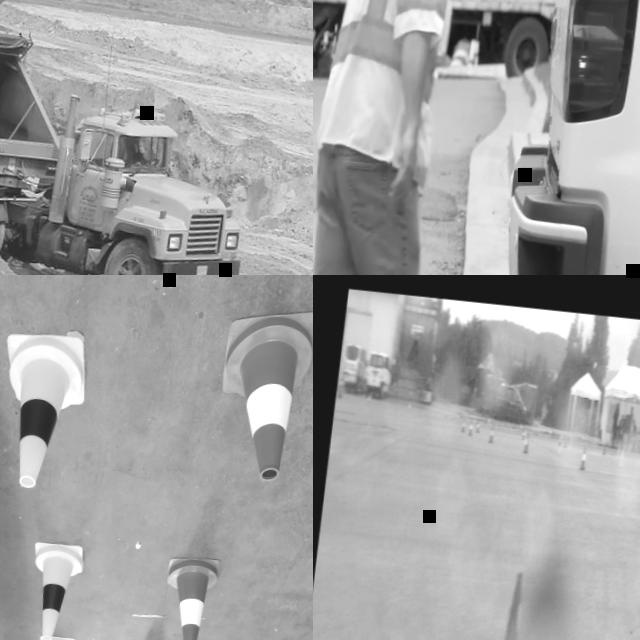Person: (313, 0, 478, 275), (121, 136, 152, 165)
Safety Cone: (208, 301, 313, 485), (0, 326, 95, 497), (24, 539, 88, 640), (156, 553, 226, 640), (490, 569, 534, 640), (451, 38, 471, 66), (487, 421, 497, 443), (522, 432, 532, 454), (579, 446, 588, 470), (556, 432, 564, 453), (468, 416, 476, 436), (460, 415, 467, 434), (618, 449, 625, 467), (522, 428, 528, 444), (476, 419, 482, 433), (366, 392, 372, 405), (406, 399, 412, 412), (443, 406, 449, 419), (486, 414, 492, 426), (563, 434, 568, 448), (615, 445, 620, 459), (568, 436, 573, 449), (602, 442, 607, 455), (518, 421, 523, 432), (522, 427, 526, 440), (548, 427, 553, 437)
Safety Vest: (313, 0, 465, 183), (123, 142, 141, 163)
machinery: (0, 0, 269, 275)
vehicle: (434, 0, 640, 275)
